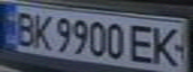0: (106, 20, 130, 61), (87, 18, 109, 58)
9: (66, 16, 90, 56), (51, 15, 75, 54)
B: (9, 8, 39, 47)
E: (127, 21, 160, 65)
K: (148, 24, 187, 69), (30, 11, 57, 51)
